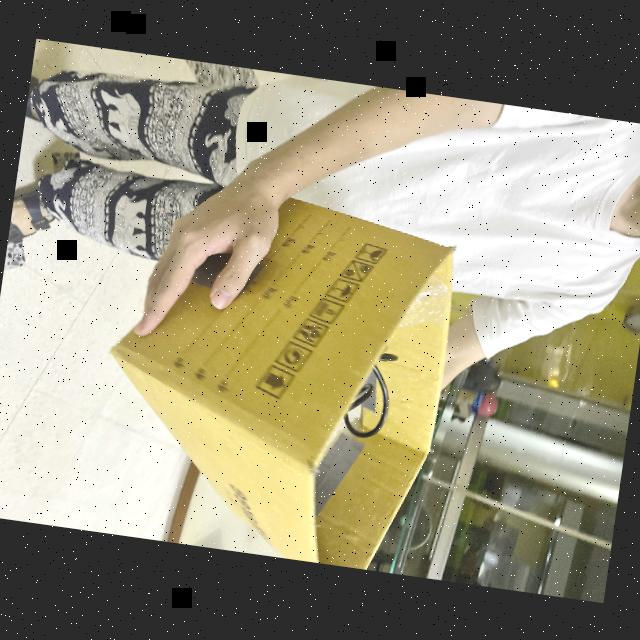cardboard_box: (81, 166, 474, 576)
